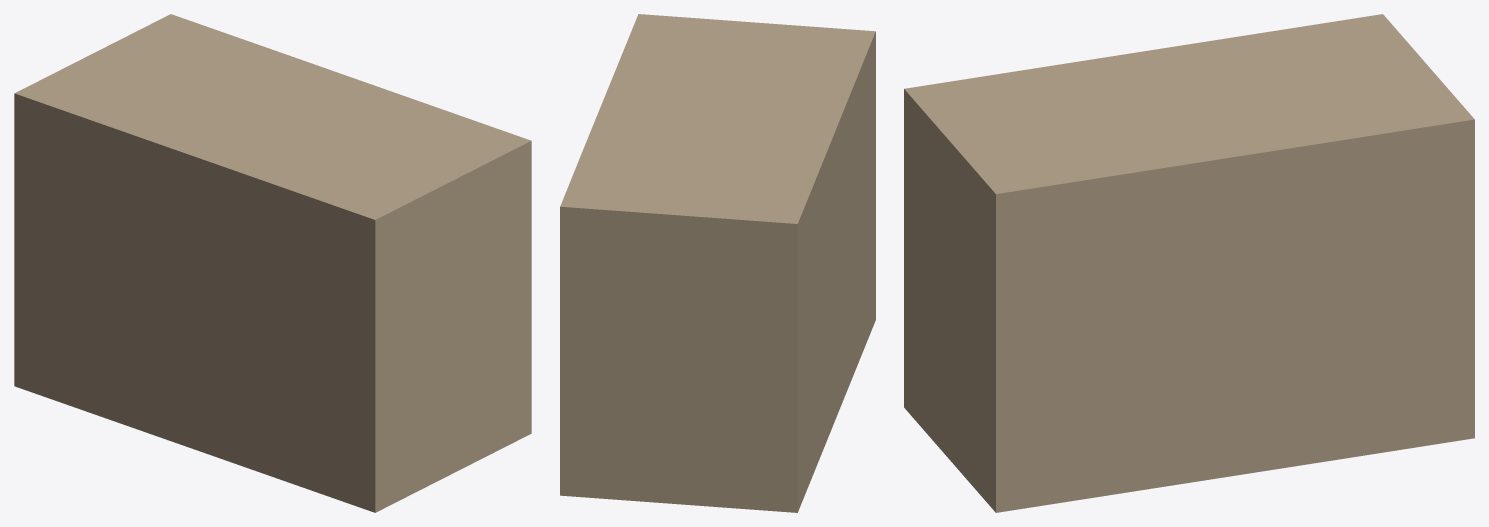
Rendered from bld_106796620.dae.
3 views of the same model, side by side, from view 1: azimuth 30°, elevation 25°; view 2: azimuth 150°, elevation 25°; view 3: azimuth 270°, elevation 25° (orthographic). The views are drawn at different scales.
Visible parts, largest first — view 1: bld_106796620; view 2: bld_106796620; view 3: bld_106796620.
Boxes of the visible parts, x1=… form: bld_106796620: x1=14, y1=14, x2=531, y2=512; bld_106796620: x1=560, y1=14, x2=875, y2=512; bld_106796620: x1=904, y1=14, x2=1474, y2=512.
Size of the model in its own units: 9.7 by 12.98 by 8.
